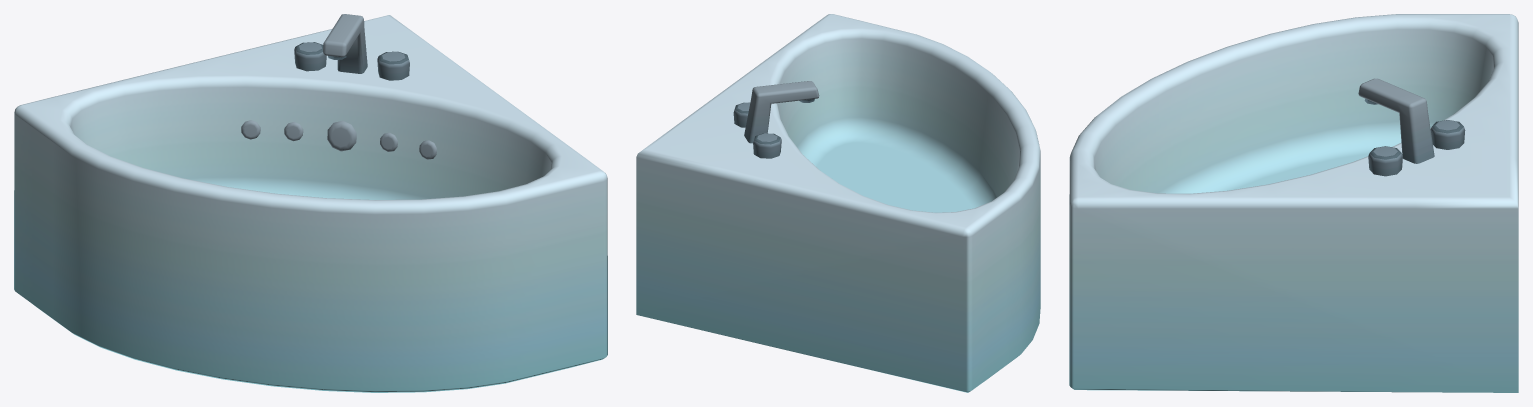
Rendered from Bath_01.glb.
The picture shows the model from 3 angles, left to right: view 1: azimuth 30°, elevation 25°; view 2: azimuth 150°, elevation 25°; view 3: azimuth 270°, elevation 25°; orthographic projection. The views are drawn at different scales.
Visible parts, largest first — view 1: Bath_01; view 2: Bath_01; view 3: Bath_01.
Part boxes in pixels (x1,y1,x2,y2): Bath_01: (14, 14, 607, 392); Bath_01: (636, 14, 1040, 392); Bath_01: (1069, 14, 1518, 392).
Bounding box in the file's own units: 1.27 × 0.7737 × 1.27.
1 material, 1 textured.
